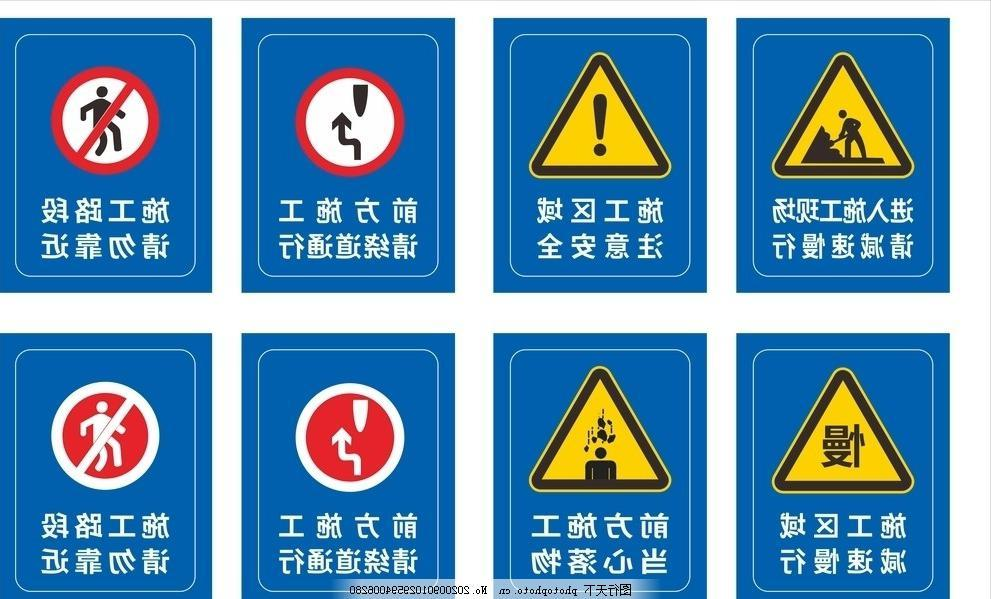sign: (9, 24, 203, 288), (504, 23, 694, 286), (747, 24, 939, 283), (503, 341, 699, 594), (12, 342, 206, 591), (252, 344, 442, 594), (256, 23, 437, 283), (750, 346, 938, 595)
